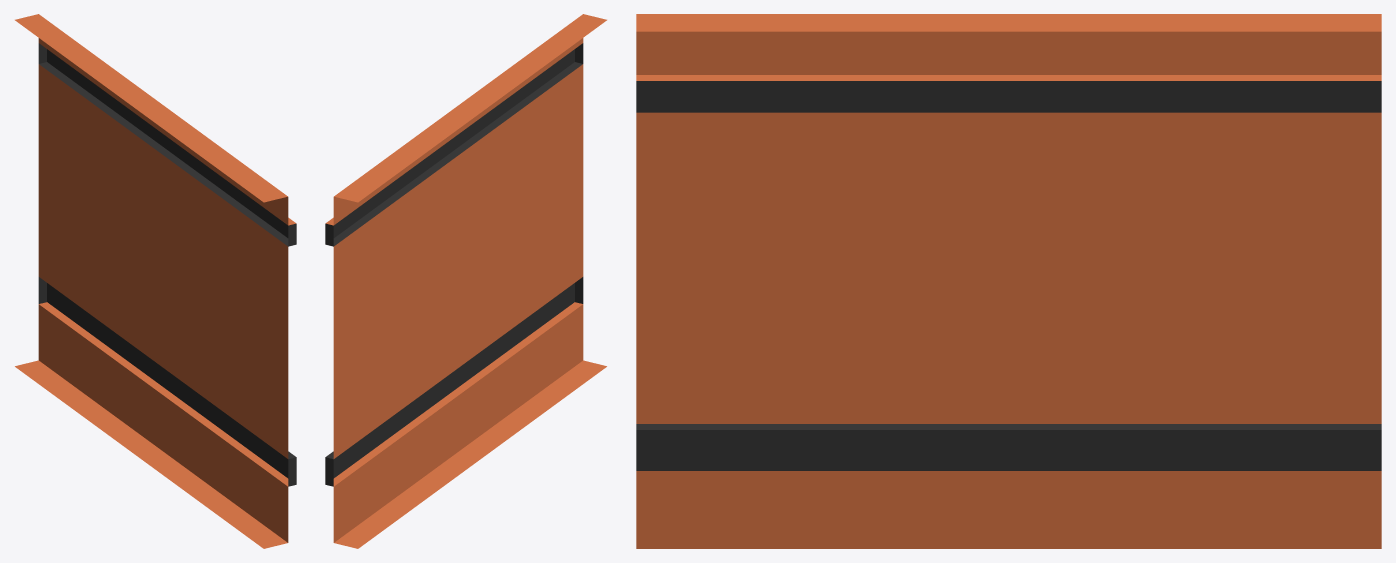
The model's file is sciana.fbx.
3 renders of one model, left to right at view 1: azimuth 30°, elevation 25°; view 2: azimuth 150°, elevation 25°; view 3: azimuth 270°, elevation 25°, orthographic. The views are drawn at different scales.
Visible parts, largest first — view 1: Cube.195; view 2: Cube.195; view 3: Cube.195.
Part boxes in pixels (bbox=[...]): Cube.195: bbox=[15, 14, 296, 548]; Cube.195: bbox=[325, 14, 606, 548]; Cube.195: bbox=[636, 14, 1381, 548].
Bounding box in the file's own units: 97.38 × 984 × 1285.
